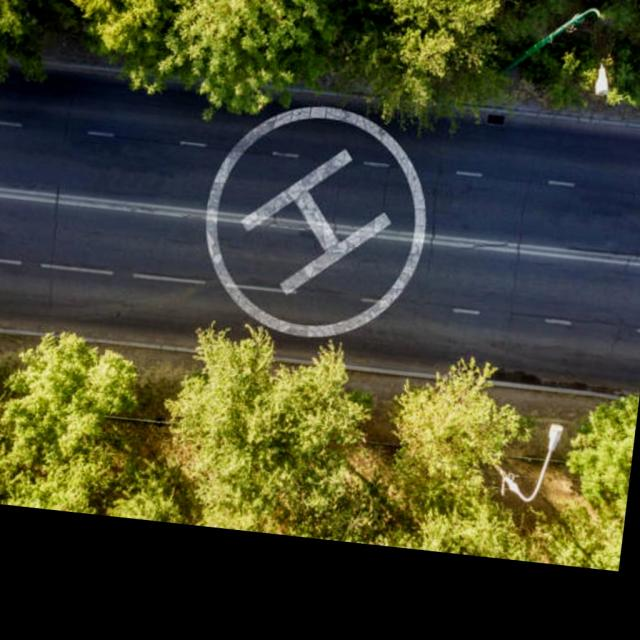helipad: (200, 102, 428, 341)
